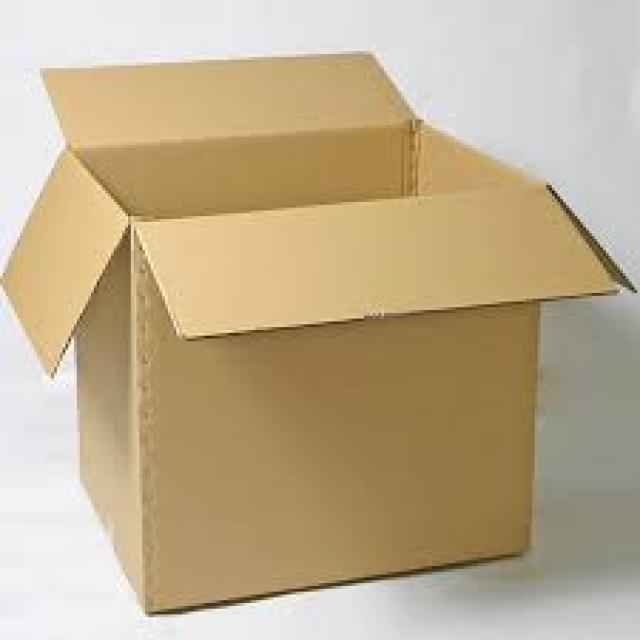Cardboard: (3, 48, 637, 616)
